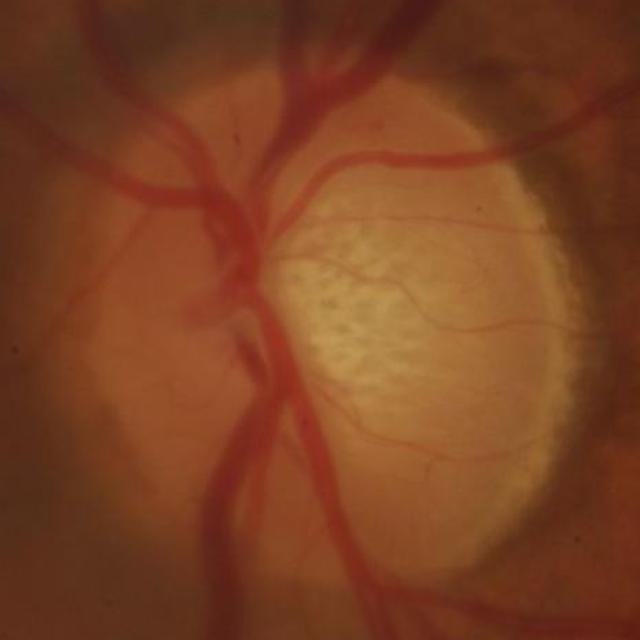OC: (256, 198, 462, 420)
OD: (81, 45, 574, 603)
